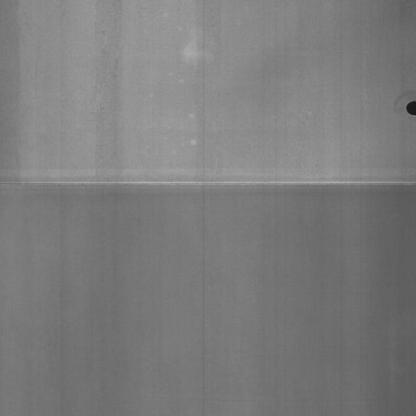punching_hole: (401, 92, 416, 132)
welding_line: (0, 164, 415, 200)
